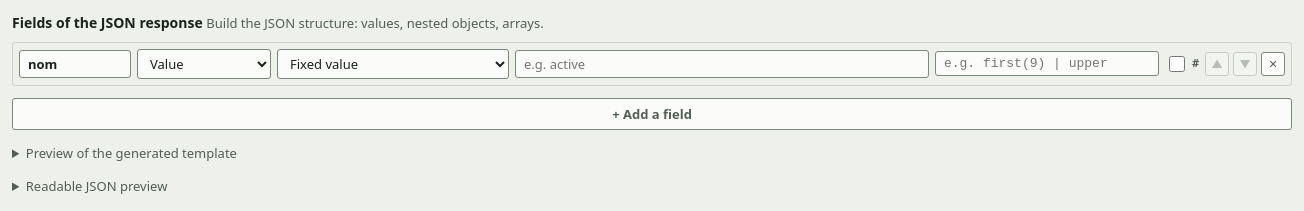
JsonResponseBuilder — "Script result" source › shows the value input when the "script" source is chosen
The width and height of the screenshot is (1304, 211).
Select "Script result" in the dropdown named "Source of the value" at (393, 64), box [277,48,509,78]
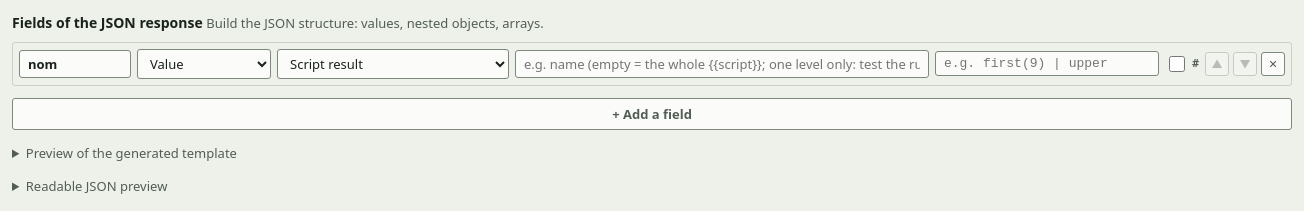
Check: the field named "Value" is shown, box [515,50,929,78]
